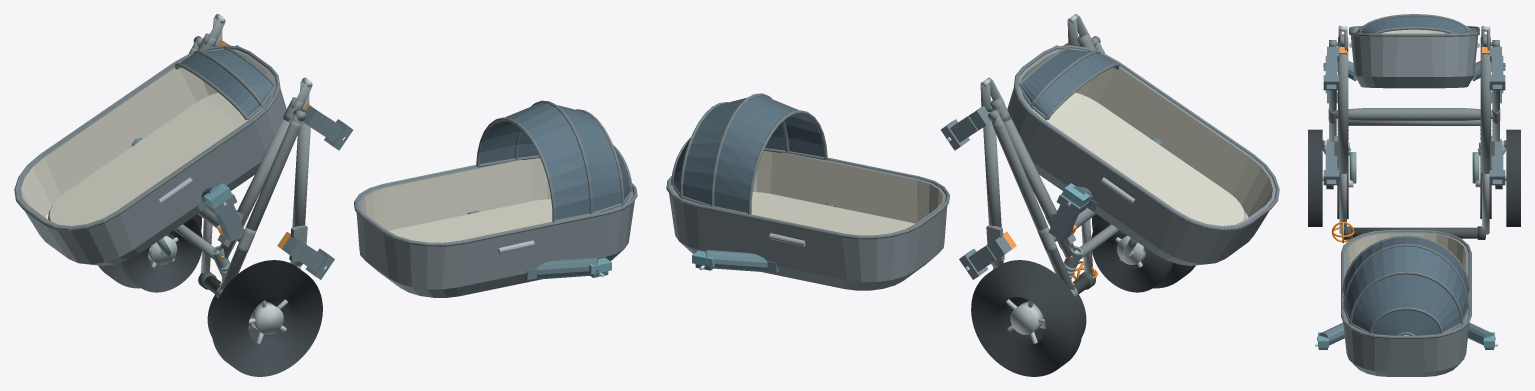
File: D03_w550_state3_wheel_M.glb
The picture shows the model from 3 angles, left to right: view 1: azimuth 30°, elevation 25°; view 2: azimuth 150°, elevation 25°; view 3: azimuth 270°, elevation 25°; orthographic projection. The views are drawn at different scales.
Visible parts, largest first — view 1: D03_Upper, D03_Lower, RL_tire.004, FR_tire.004, V46_rear_leg_-1.005, D03_Upper_Mount_H, main_lower_-1.005, main_upper_-1.005, Universal_Cabin_Receiver_H_-1, Universal_Cabin_Receiver_M_-1, Universal_Cabin_Receiver_L_-1, RL_sealed_hub.004 (+2 smaller); view 2: D03_Upper, D03_Lower, RR_tire.004, FL_tire.004, V46_rear_leg_1.005, D03_Upper_Mount_H, main_lower_1.005, main_upper_1.005, Universal_Cabin_Receiver_H_1, Universal_Cabin_Receiver_M_1, Universal_Cabin_Receiver_L_1, RR_sealed_hub.004 (+2 smaller); view 3: D03_Upper, D03_Lower, V46_rearbar.005, RL_tire.004, RR_tire.004, main_upper_1.005, main_upper_-1.005, D03_Upper_Mount_H, round_handle.004, front_fixed_round_tube.004, Universal_Cabin_Receiver_M_1, Universal_Cabin_Receiver_M_-1 (+12 smaller).
Part boxes in pixels (box(x1,y1,x2,y2)): D03_Upper: box(354, 100, 637, 297); D03_Lower: box(14, 45, 286, 265); RL_tire.004: box(211, 260, 322, 376); FR_tire.004: box(121, 218, 202, 292); V46_rear_leg_-1.005: box(219, 120, 301, 290); D03_Upper_Mount_H: box(467, 210, 611, 280); main_lower_-1.005: box(218, 116, 293, 258); main_upper_-1.005: box(290, 112, 310, 266); Universal_Cabin_Receiver_H_-1: box(282, 236, 334, 279); Universal_Cabin_Receiver_M_-1: box(302, 106, 353, 150); Universal_Cabin_Receiver_L_-1: box(205, 193, 245, 241); RL_sealed_hub.004: box(250, 302, 283, 334); D03_Upper: box(666, 93, 949, 290); D03_Lower: box(1007, 45, 1279, 265); RR_tire.004: box(971, 260, 1082, 376); FL_tire.004: box(1091, 218, 1172, 292); V46_rear_leg_1.005: box(992, 120, 1074, 290); D03_Upper_Mount_H: box(692, 203, 836, 272); main_lower_1.005: box(1002, 118, 1075, 258); main_upper_1.005: box(983, 112, 1003, 266); Universal_Cabin_Receiver_H_1: box(959, 236, 1011, 279); Universal_Cabin_Receiver_M_1: box(941, 106, 991, 150); Universal_Cabin_Receiver_L_1: box(1048, 193, 1088, 241); RR_sealed_hub.004: box(1010, 302, 1043, 334); D03_Upper: box(1341, 230, 1471, 376); D03_Lower: box(1349, 14, 1479, 88); V46_rearbar.005: box(1335, 108, 1493, 120); RL_tire.004: box(1308, 129, 1322, 226); RR_tire.004: box(1506, 129, 1520, 226); main_upper_1.005: box(1480, 51, 1490, 173); main_upper_-1.005: box(1338, 51, 1348, 173); D03_Upper_Mount_H: box(1315, 322, 1497, 349); round_handle.004: box(1351, 227, 1485, 238); front_fixed_round_tube.004: box(1348, 120, 1480, 125); Universal_Cabin_Receiver_M_1: box(1489, 46, 1505, 90); Universal_Cabin_Receiver_M_-1: box(1323, 46, 1339, 90).
Bounding box in the file's own units: 1.7 × 0.747 × 0.656.
